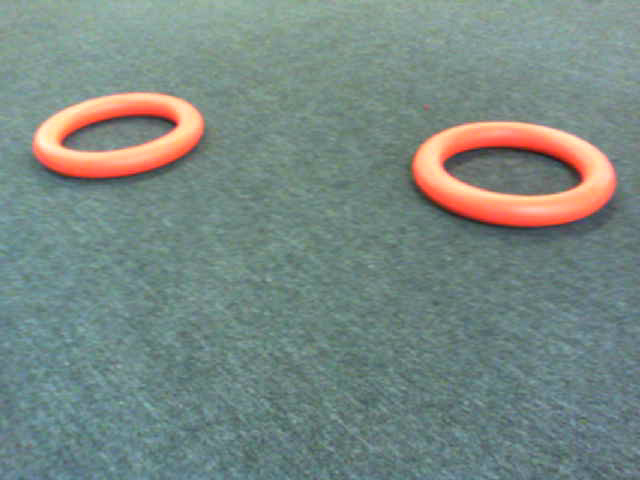Note: (413, 124, 621, 235), (35, 94, 211, 183)
